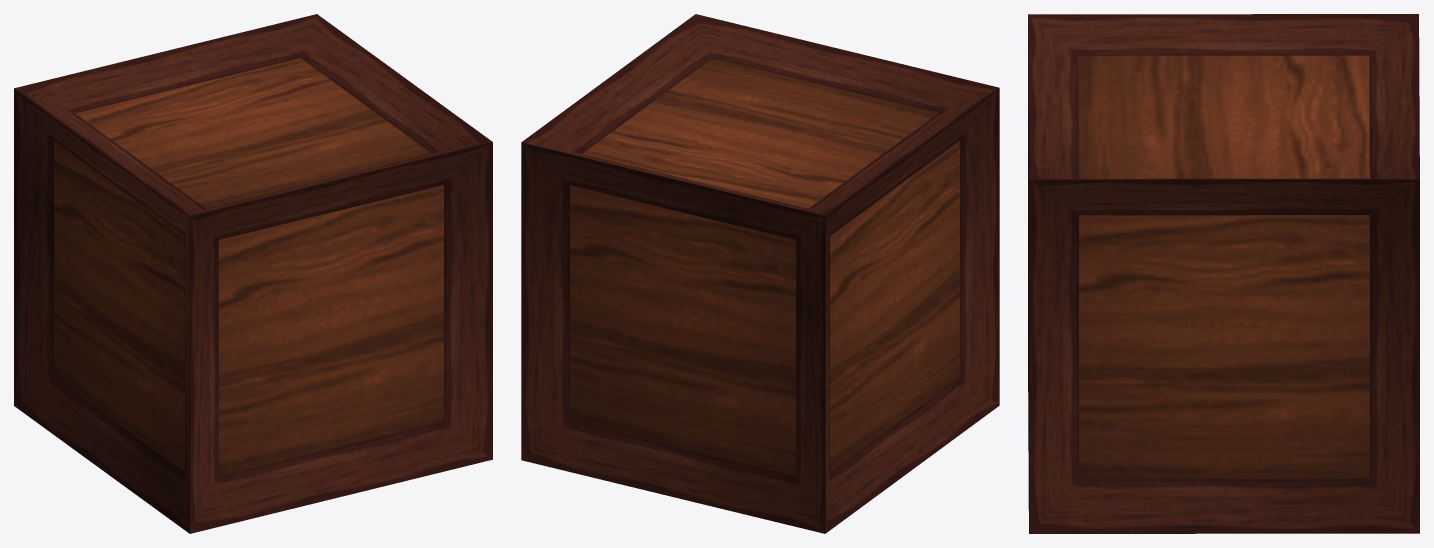
The model's file is ETC0610008.fbx.
The picture shows the model from 3 angles, left to right: view 1: azimuth 30°, elevation 25°; view 2: azimuth 150°, elevation 25°; view 3: azimuth 270°, elevation 25°; orthographic projection. The views are drawn at different scales.
Parts seen in each view (by area): view 1: smETC0610008; view 2: smETC0610008; view 3: smETC0610008.
Boxes of the visible parts, x1,y1,x2,y2 form: smETC0610008: (14,14,492,533); smETC0610008: (521,14,999,533); smETC0610008: (1028,14,1419,533).
Bounding box in the file's own units: 81.65 × 81.46 × 81.66.
1 material, 1 textured.
